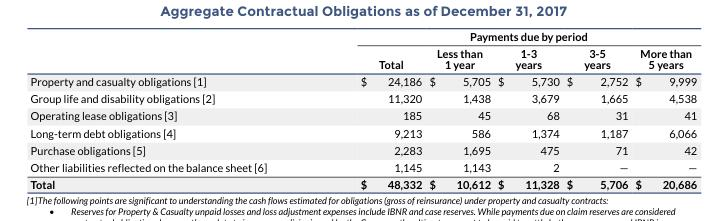table: (29, 28, 696, 190)
table column: (29, 28, 312, 190), (312, 28, 424, 190), (424, 28, 493, 190), (493, 28, 562, 190), (562, 28, 631, 190), (631, 28, 696, 190)
table column header: (29, 28, 696, 72)
table row: (29, 43, 696, 72), (29, 140, 696, 158), (29, 72, 696, 89), (29, 89, 696, 106), (29, 106, 696, 123), (29, 123, 696, 140), (29, 158, 696, 175), (29, 28, 696, 43), (29, 175, 696, 190)
table spanning cell: (312, 28, 696, 43)
